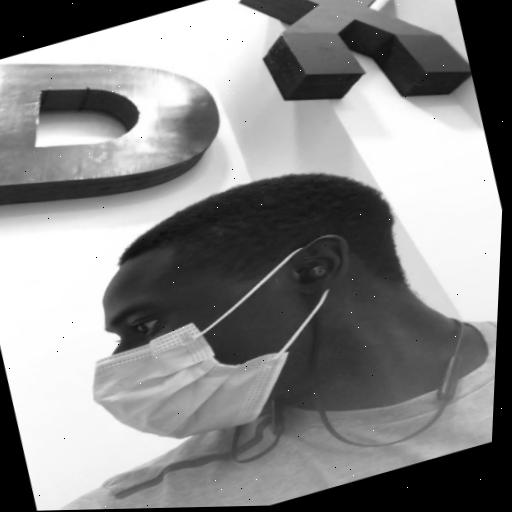mask: (58, 214, 356, 466)
